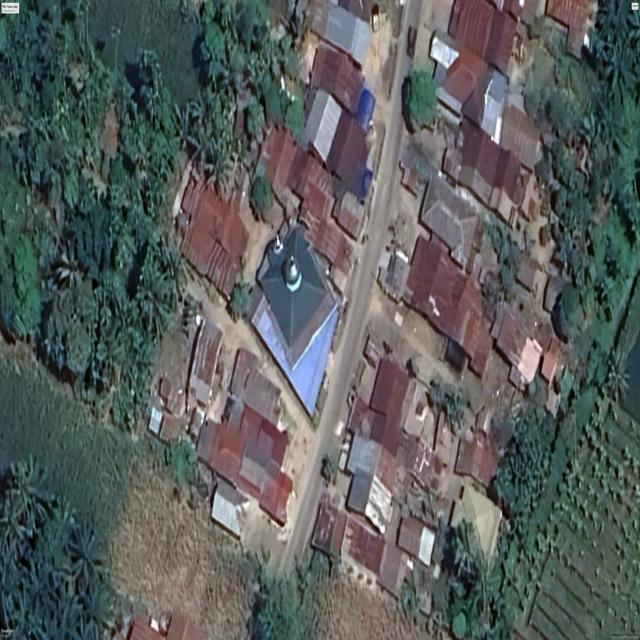Home: (404, 236, 491, 378), (311, 495, 412, 600), (347, 358, 431, 481), (443, 119, 526, 226), (462, 68, 540, 169), (420, 175, 479, 267), (449, 0, 517, 73), (347, 435, 396, 534), (430, 32, 487, 117), (223, 397, 289, 468), (238, 445, 293, 526), (230, 347, 281, 424), (496, 309, 542, 390), (311, 44, 364, 114), (288, 147, 333, 222), (326, 111, 368, 186), (303, 211, 352, 275), (198, 422, 245, 485), (302, 90, 342, 161), (258, 125, 296, 199), (260, 470, 293, 526), (332, 192, 365, 241)
mosque: (251, 226, 338, 416)
